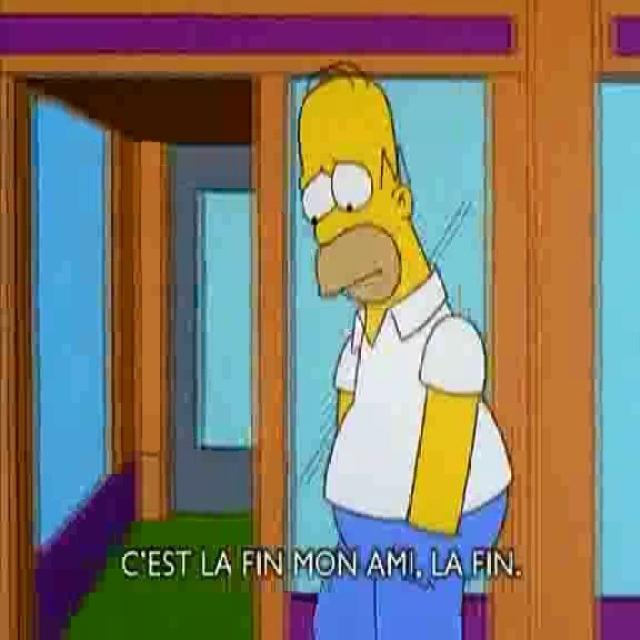Homer Simpson: (295, 59, 434, 317)
